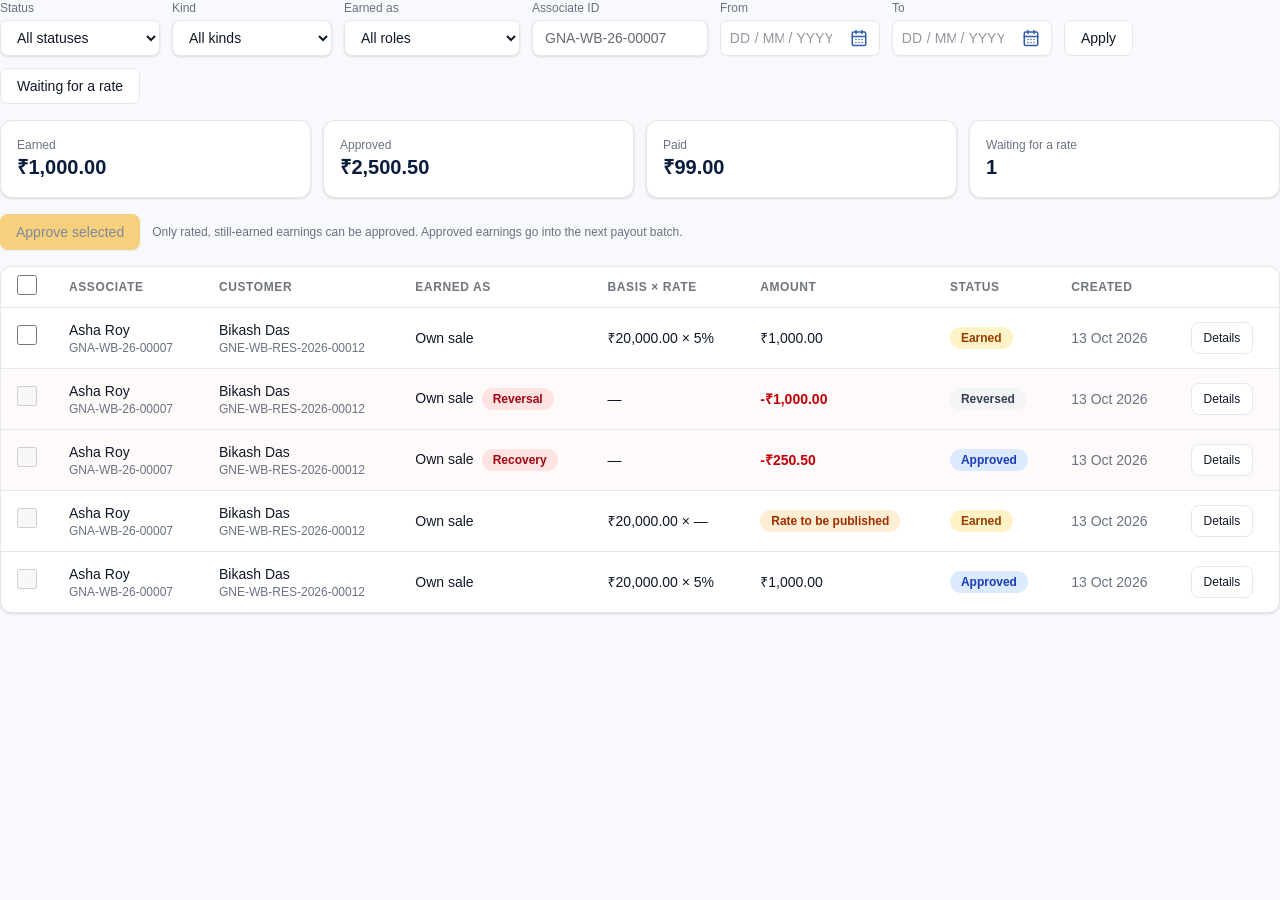
Test: Commissions list (E7) › bulk approve asks for confirmation, then sends exactly the selected ids
What coordinates should you click on to do the following:
click the checkbox named "Select entry 12"
I would click on:
 (27, 335)
Its box is [17,325,37,345].
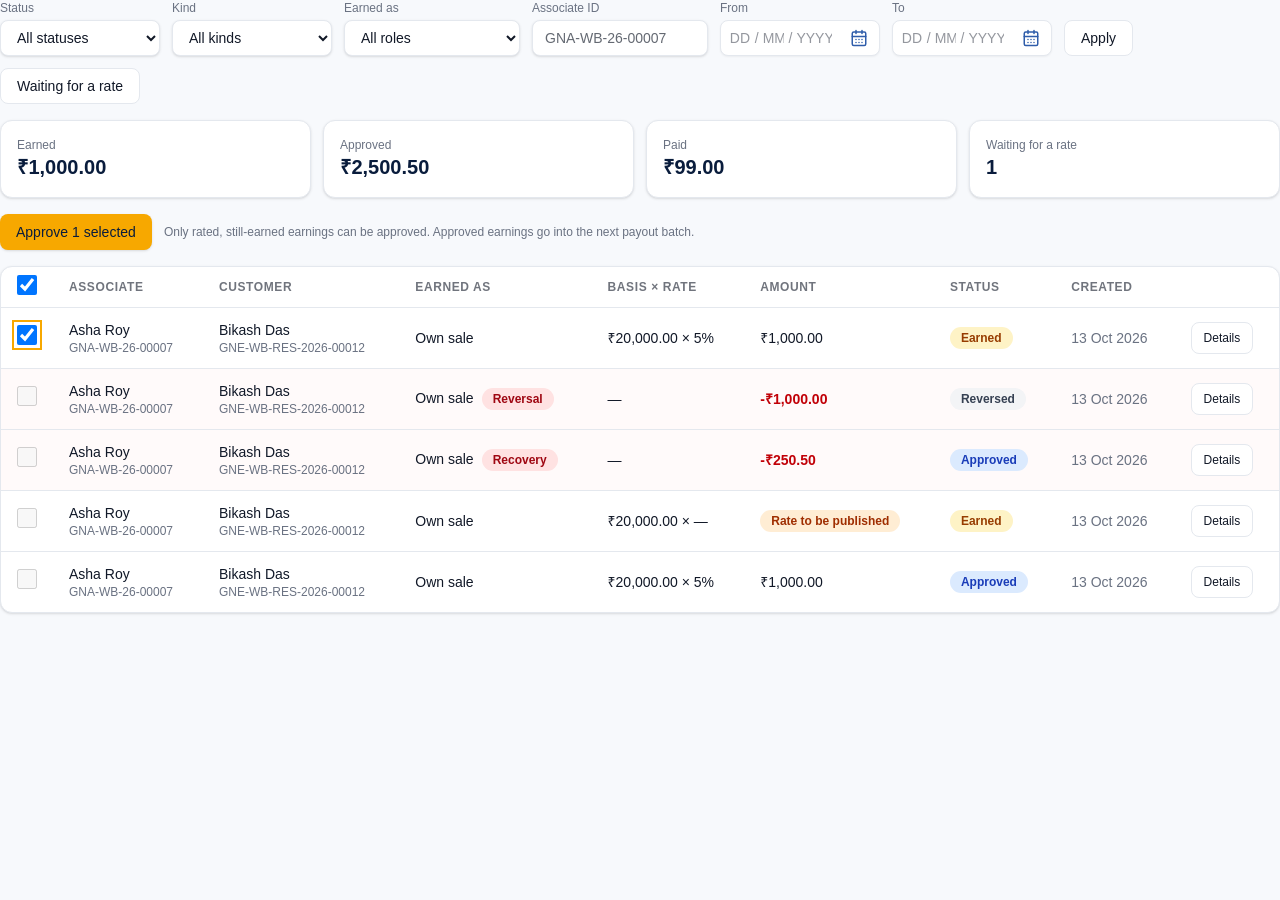
What coordinates should you click on to do the following:
click the checkbox named "Select entry 20"
I would click on:
 (27, 579)
Its box is [17,569,37,589].
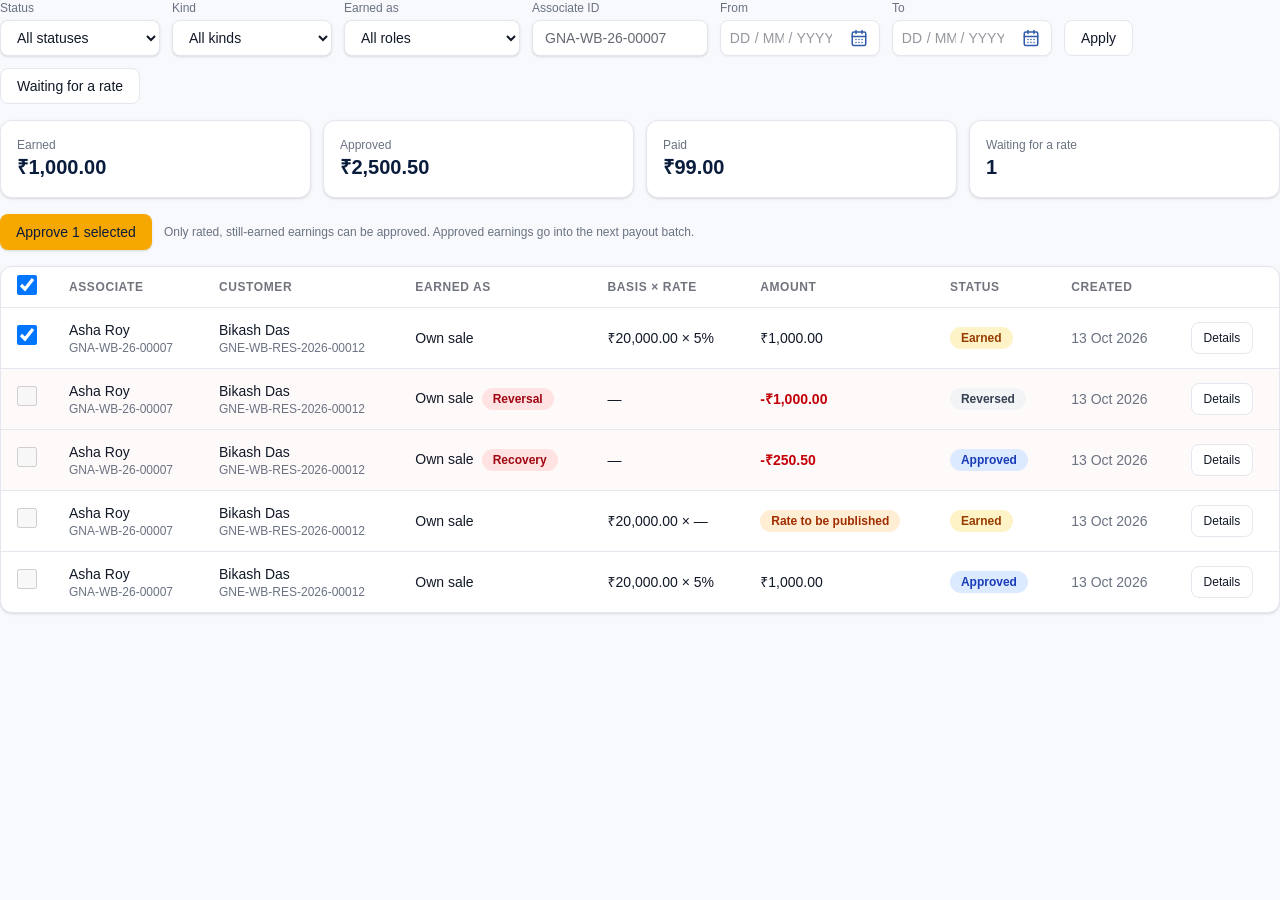
What coordinates should you click on to do the following:
click the button "Approve 1 selected"
I would click on:
 (76, 232)
Its box is [0,214,152,250].
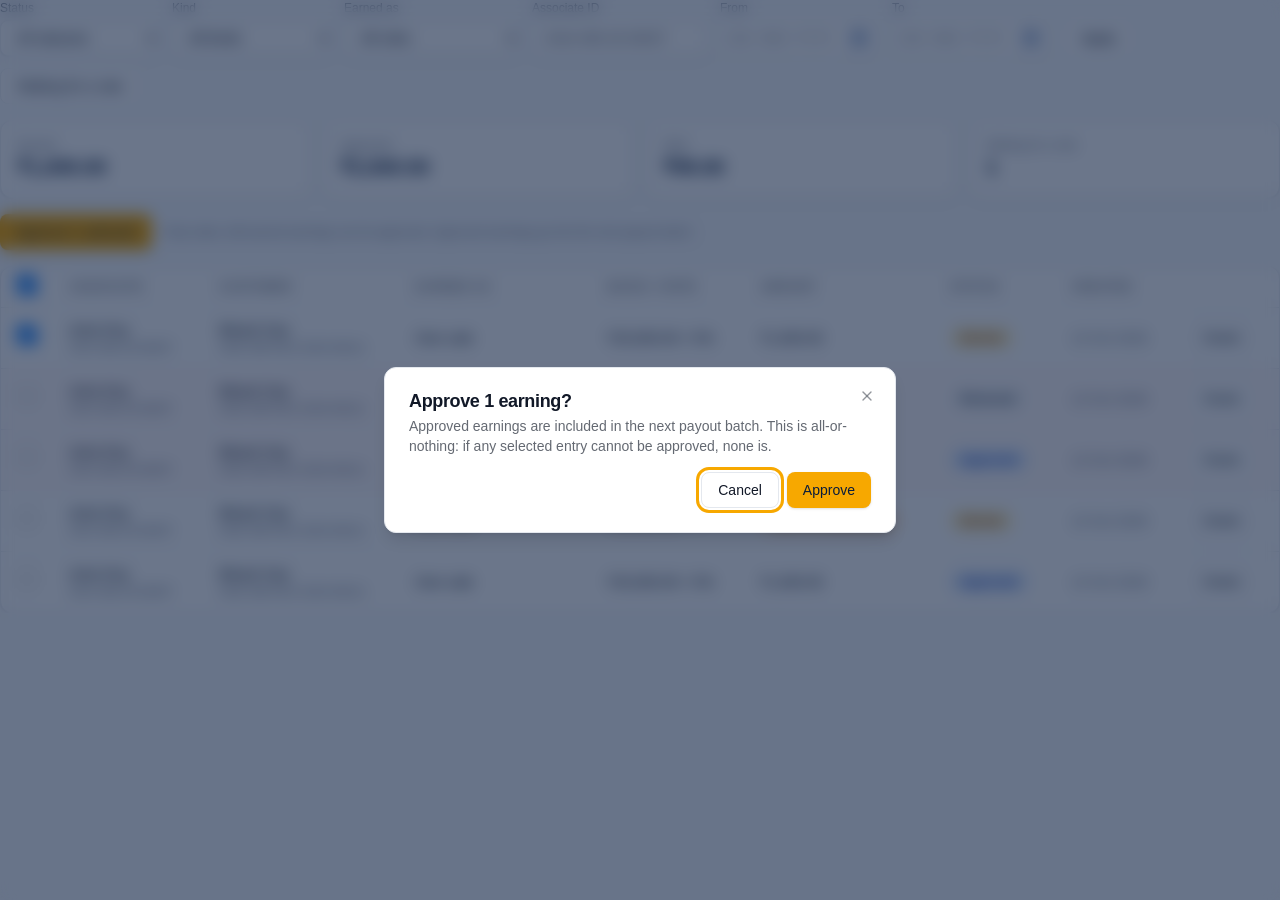
What coordinates should you click on to do the following:
click the button "Approve"
I would click on:
 (829, 490)
Its box is [787,472,871,508].
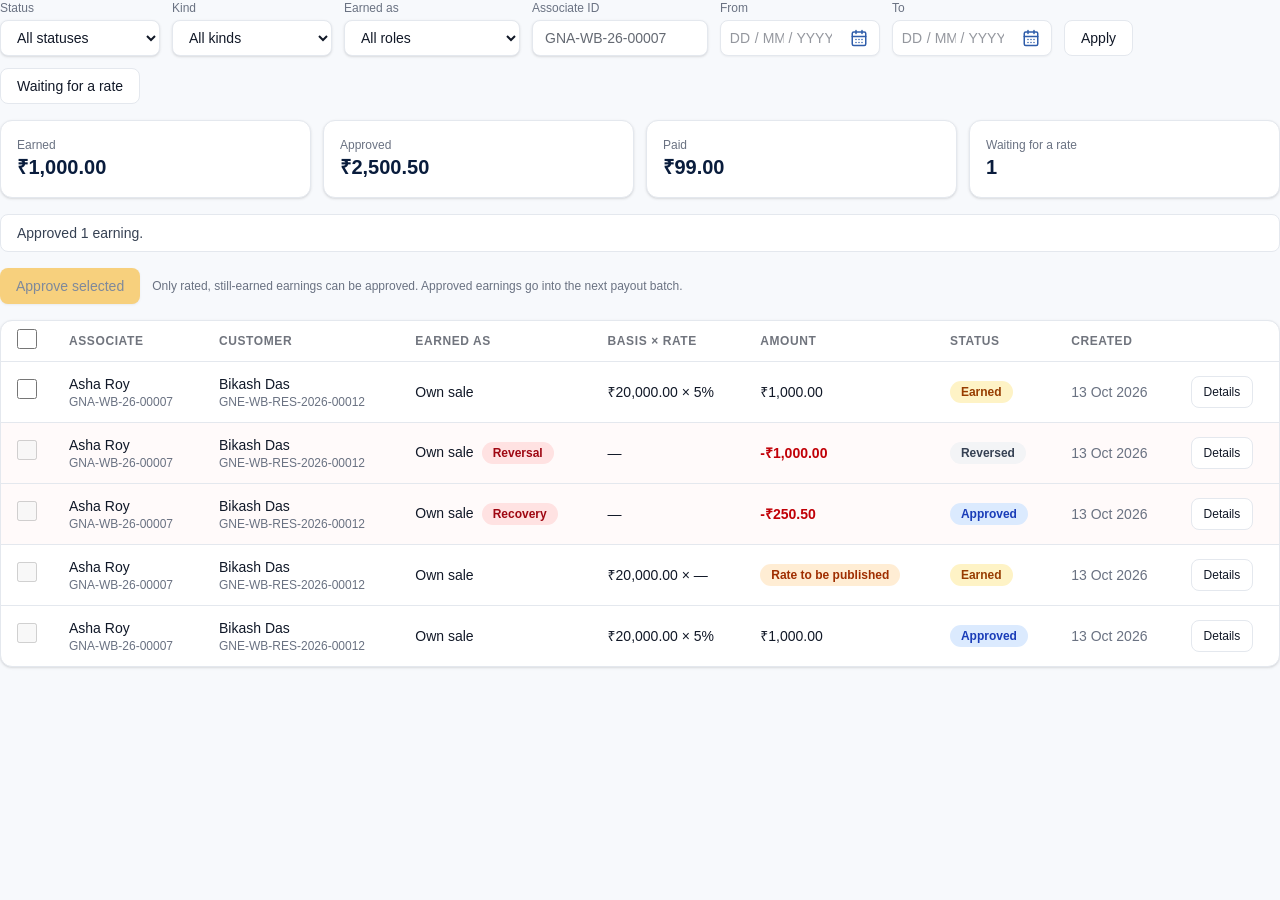
Expected: the text "Approved 1 earning." is shown, [0,214,1279,252]
